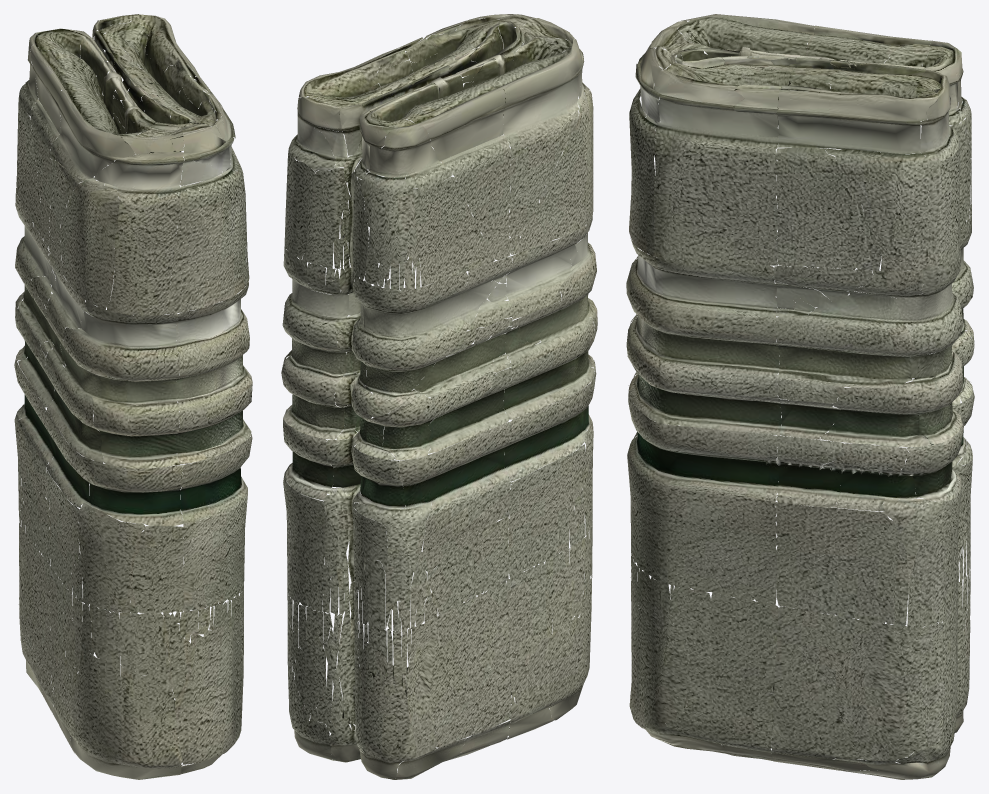
File: salero_pimentero.glb
3 renders of one model, left to right at view 1: azimuth 30°, elevation 25°; view 2: azimuth 150°, elevation 25°; view 3: azimuth 270°, elevation 25°, orthographic. The views are drawn at different scales.
Parts seen in each view (by area): view 1: tripo_node_af8d3978-64d4-4589-89d2-db7767476410; view 2: tripo_node_af8d3978-64d4-4589-89d2-db7767476410; view 3: tripo_node_af8d3978-64d4-4589-89d2-db7767476410.
Boxes of the visible parts, box(x1,y1,x2,y2) form: tripo_node_af8d3978-64d4-4589-89d2-db7767476410: box(14, 14, 252, 779); tripo_node_af8d3978-64d4-4589-89d2-db7767476410: box(281, 14, 597, 779); tripo_node_af8d3978-64d4-4589-89d2-db7767476410: box(626, 14, 974, 779).
Size of the model in its own units: 0.3147 by 0.9786 by 0.4536.
Materials: 1 (1 with a texture image).
